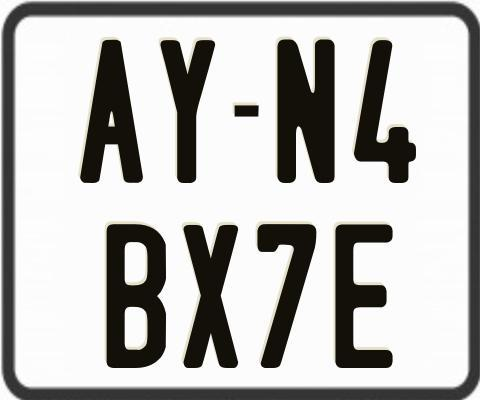4: (351, 40, 418, 188)
7: (254, 222, 319, 370)
A: (77, 37, 145, 184)
B: (107, 224, 166, 369)
E: (334, 223, 395, 370)
N: (275, 37, 335, 187)
X: (183, 222, 242, 366)
Y: (158, 39, 216, 188)
